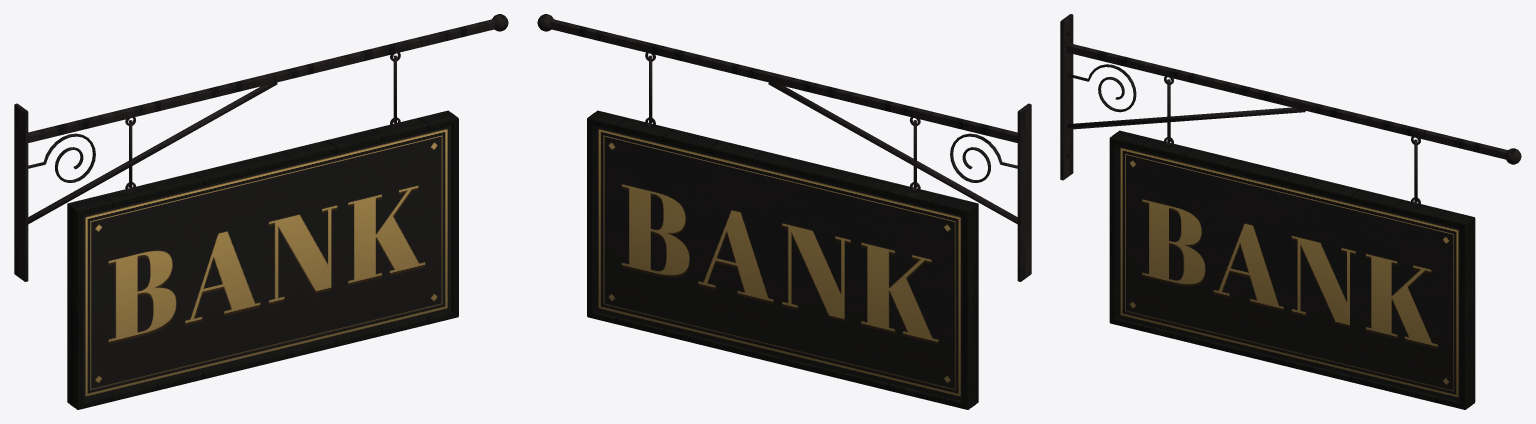
File: bank-hanging-sign.glb
The picture shows the model from 3 angles, left to right: view 1: azimuth 30°, elevation 25°; view 2: azimuth 150°, elevation 25°; view 3: azimuth 330°, elevation 25°; orthographic projection. The views are drawn at different scales.
Visible parts, largest first — view 1: bank-sign-board, bank-sign-bracket; view 2: bank-sign-board, bank-sign-bracket; view 3: bank-sign-board, bank-sign-bracket.
Boxes of the visible parts, <box> form: bank-sign-board: <box>67,110,458,409</box>; bank-sign-bracket: <box>14,14,508,281</box>; bank-sign-board: <box>587,110,978,409</box>; bank-sign-bracket: <box>537,14,1031,281</box>; bank-sign-board: <box>1109,130,1475,409</box>; bank-sign-bracket: <box>1060,14,1521,207</box>.
Size of the model in its own units: 1.92 by 1.17 by 0.075.
3 materials, 3 textured.
